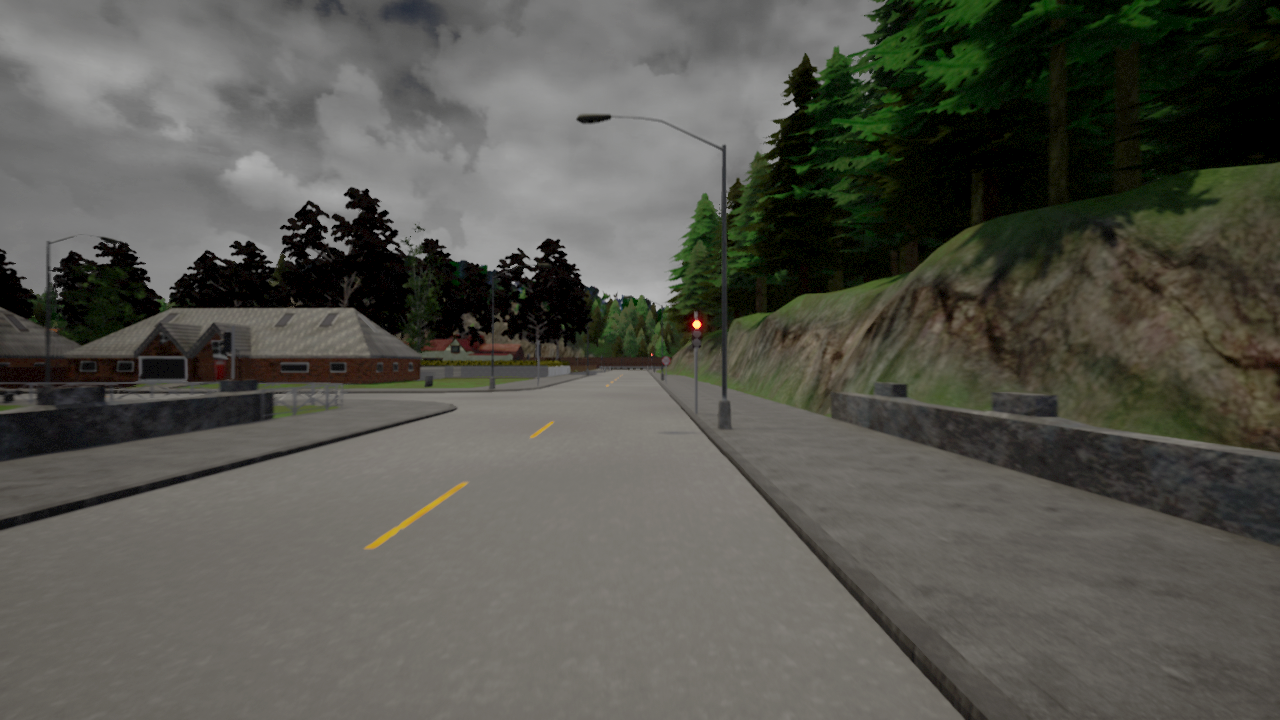red: (692, 318, 703, 349)
